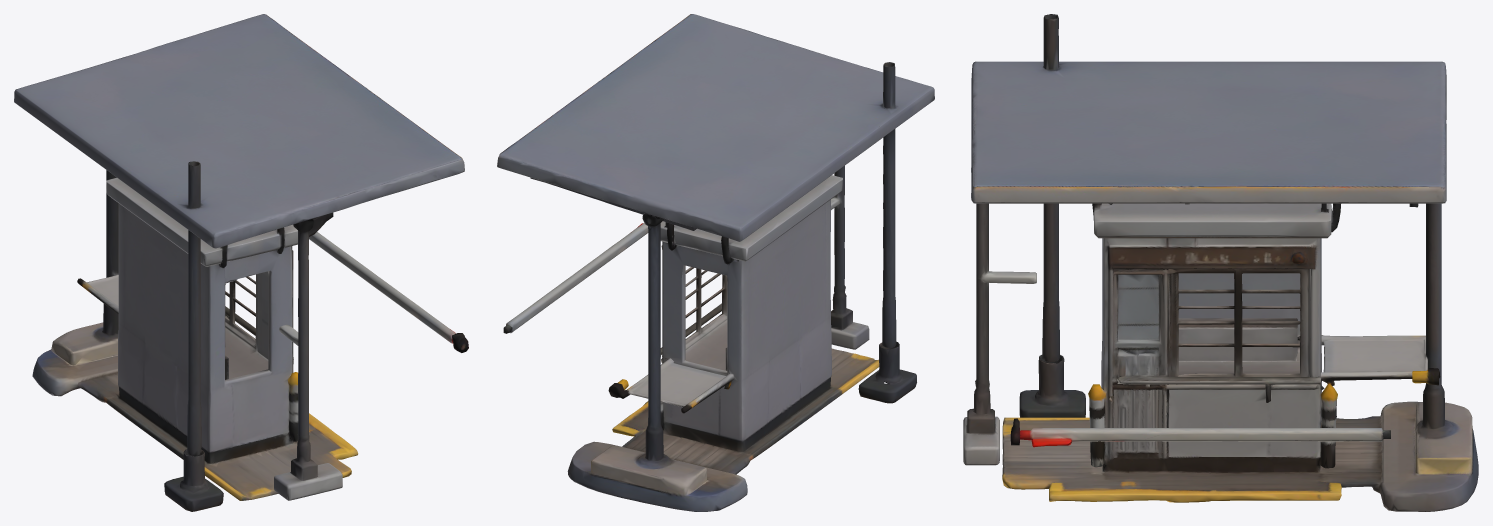
Rendered from tollbooth.glb.
3 views of the same model, side by side, from view 1: azimuth 30°, elevation 25°; view 2: azimuth 150°, elevation 25°; view 3: azimuth 270°, elevation 25° (orthographic). The views are drawn at different scales.
Parts seen in each view (by area): view 1: tripo_node_40e12739-e98f-496f-96c4-5913d81ffe90; view 2: tripo_node_40e12739-e98f-496f-96c4-5913d81ffe90; view 3: tripo_node_40e12739-e98f-496f-96c4-5913d81ffe90.
Boxes of the visible parts, x1,y1,x2,y2 form: tripo_node_40e12739-e98f-496f-96c4-5913d81ffe90: [14, 14, 468, 511]; tripo_node_40e12739-e98f-496f-96c4-5913d81ffe90: [497, 14, 934, 511]; tripo_node_40e12739-e98f-496f-96c4-5913d81ffe90: [963, 14, 1478, 511].
Size of the model in its own units: 5.98 by 6.85 by 8.
1 material, 1 textured.
